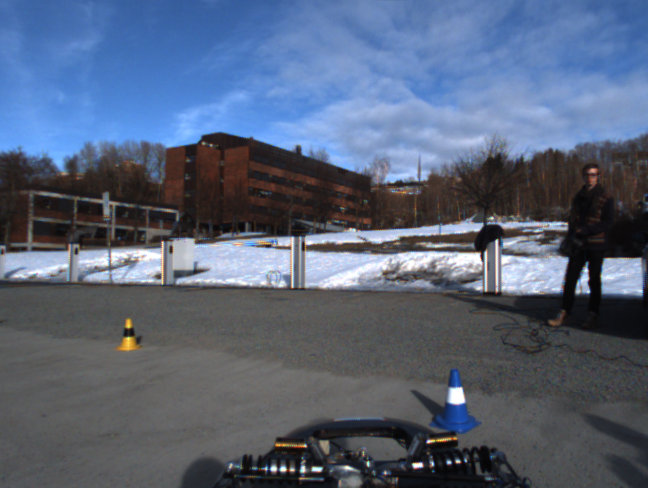cone-small-blue: (430, 368, 481, 432)
cone-small-yellow: (115, 318, 140, 351)
